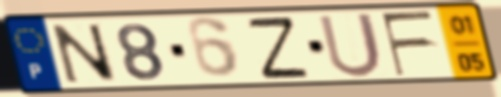6: (188, 14, 242, 85)
8: (115, 21, 168, 82)
F: (378, 9, 437, 79)
N: (48, 22, 122, 85)
U: (315, 10, 386, 80)
Z: (244, 14, 313, 81)
